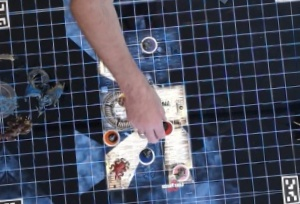blue: (136, 144, 157, 167)
orange: (101, 126, 122, 148)
pink: (170, 161, 191, 181)
red: (156, 118, 177, 137)
violet: (137, 32, 161, 55)
yellow: (115, 90, 130, 105)
